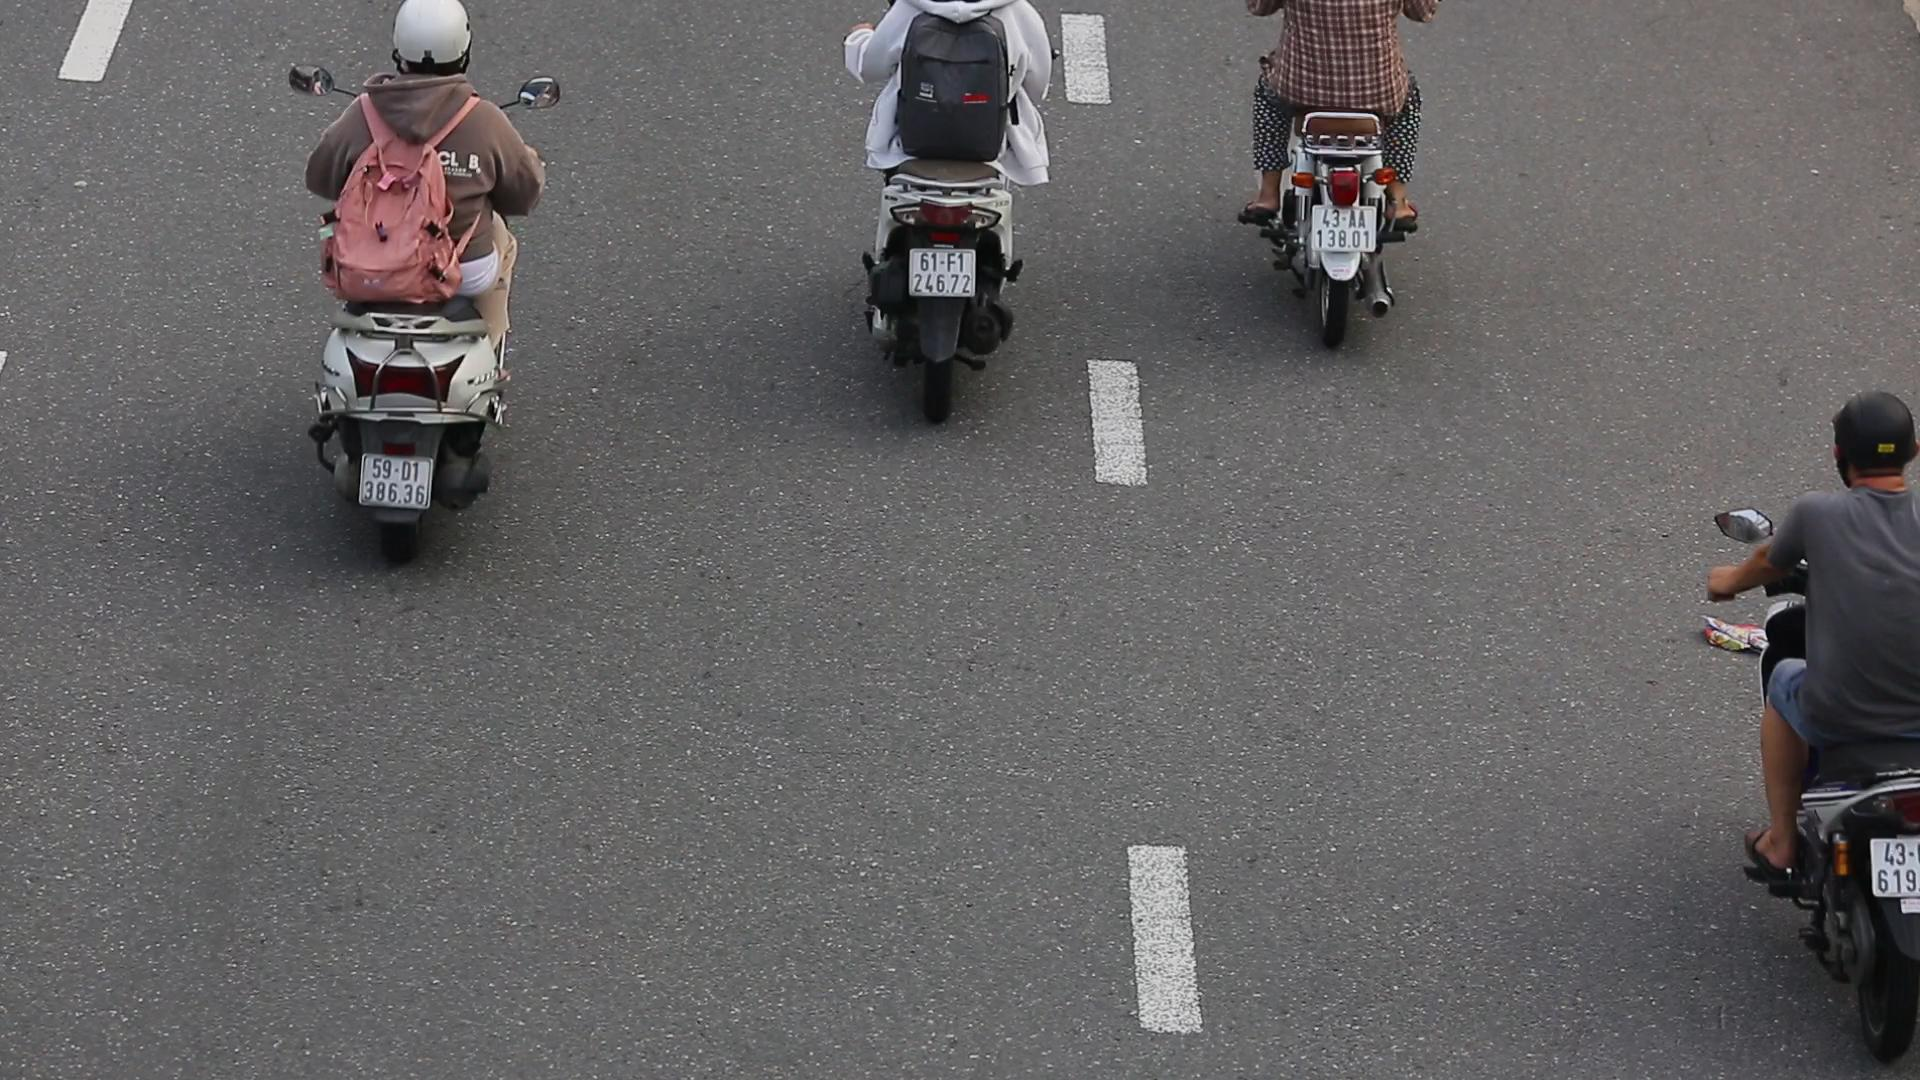motobike: (277, 0, 568, 589)
